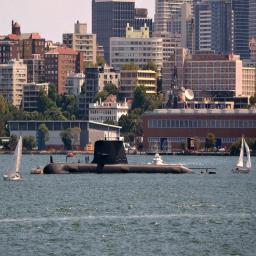submarine: (46, 142, 196, 174)
